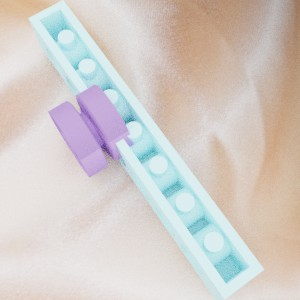lego: (28, 0, 264, 300), (47, 84, 134, 177)
